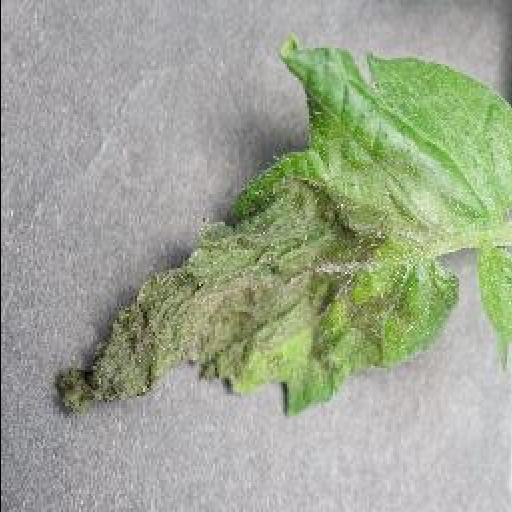disease_tomato: (52, 40, 512, 424)
